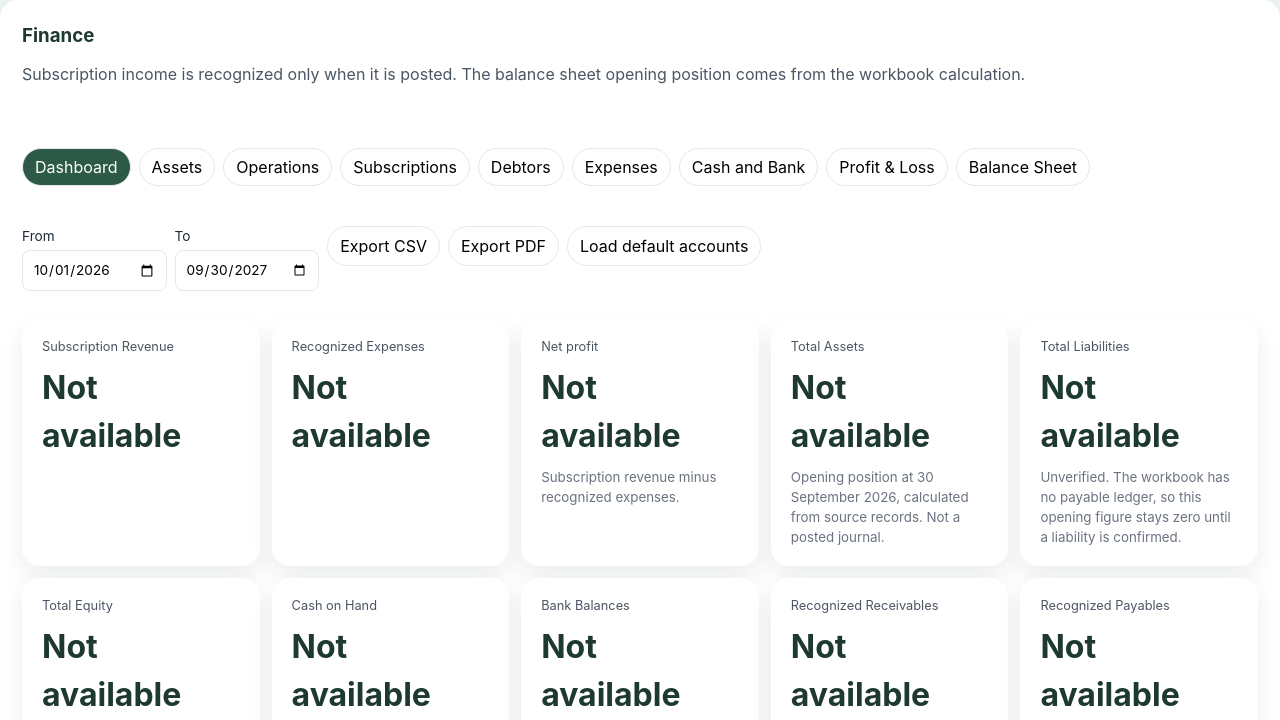
Test: FinancePage › shows the operations summary as labeled figures
Click the tab "Operations".
click(278, 167)  # box [223,148,332,186]
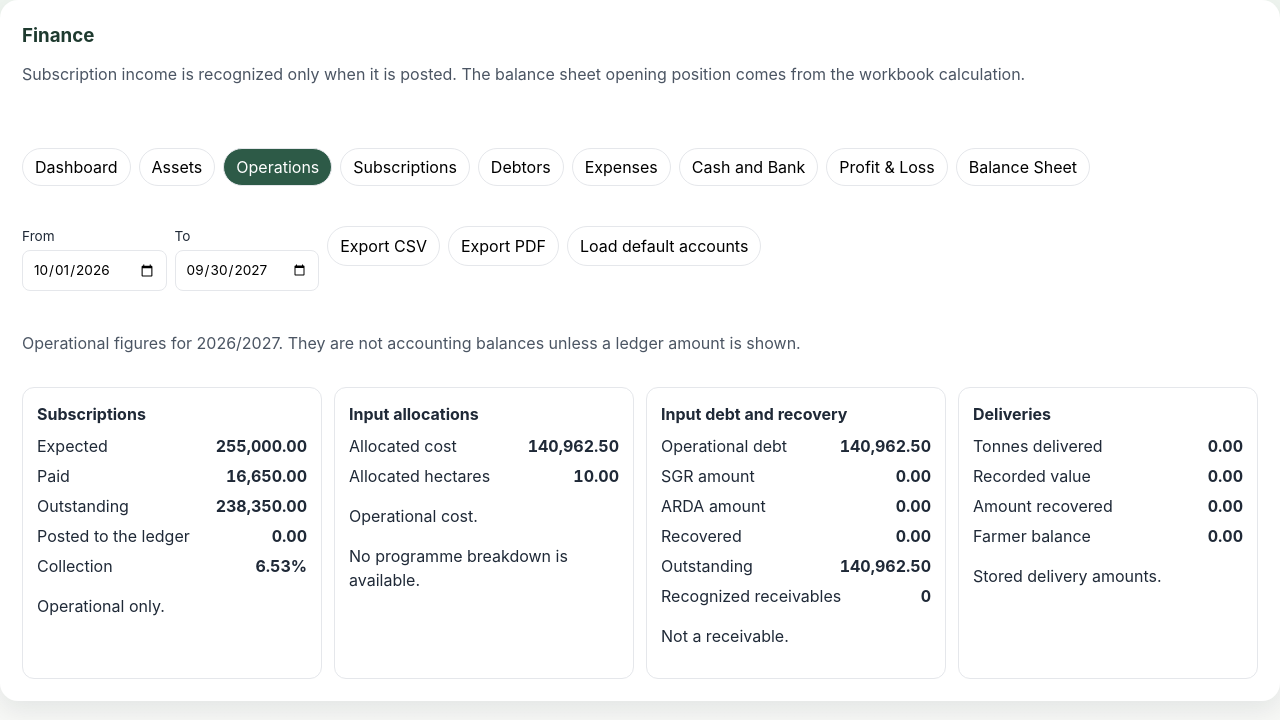
Result: the text "Expected" is shown at [37,434,108,458]
Result: the text "255,000.00" is shown at [216,434,307,458]
